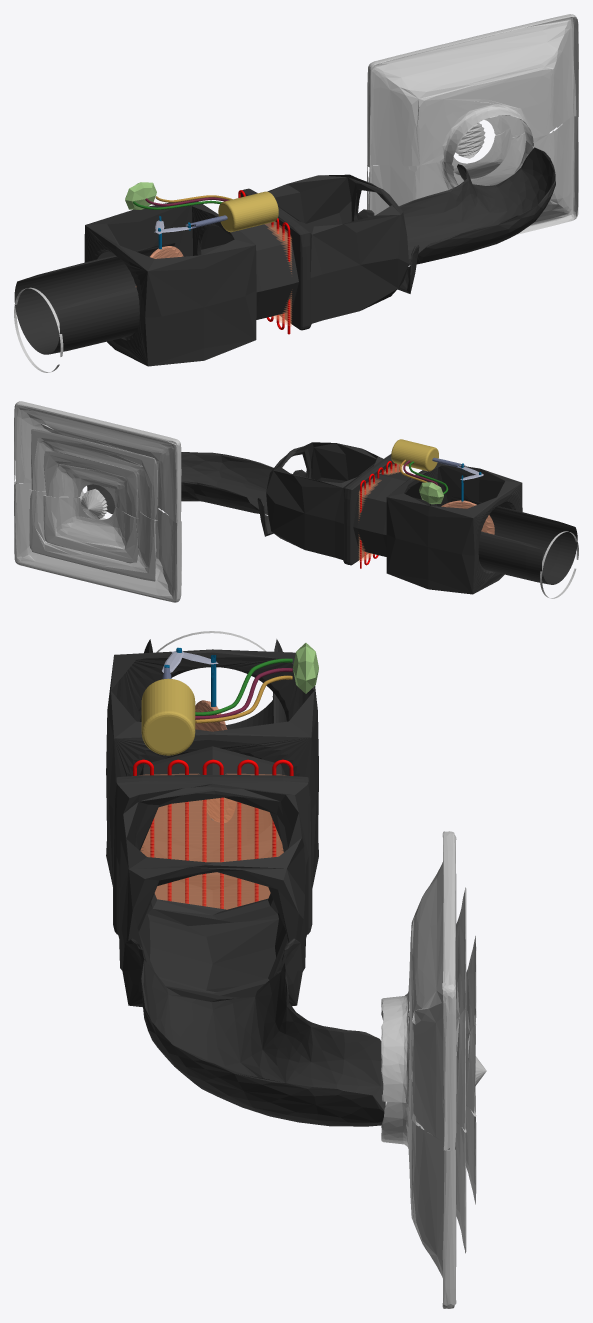
The model's file is diffuser.obj.
3 views of the same model, one above another, from view 1: azimuth 30°, elevation 25°; view 2: azimuth 150°, elevation 25°; view 3: azimuth 270°, elevation 25° (orthographic). The views are drawn at different scales.
Visible parts, largest first — view 1: Diffuser01_DiffuserGeom; view 2: Diffuser01_DiffuserGeom; view 3: Diffuser01_DiffuserGeom.
Boxes of the visible parts, bbox=[...] form: Diffuser01_DiffuserGeom: bbox=[14, 14, 578, 372]; Diffuser01_DiffuserGeom: bbox=[14, 401, 578, 602]; Diffuser01_DiffuserGeom: bbox=[106, 631, 486, 1308].
Bounding box in the file's own units: 3.02 × 0.9649 × 1.02.
